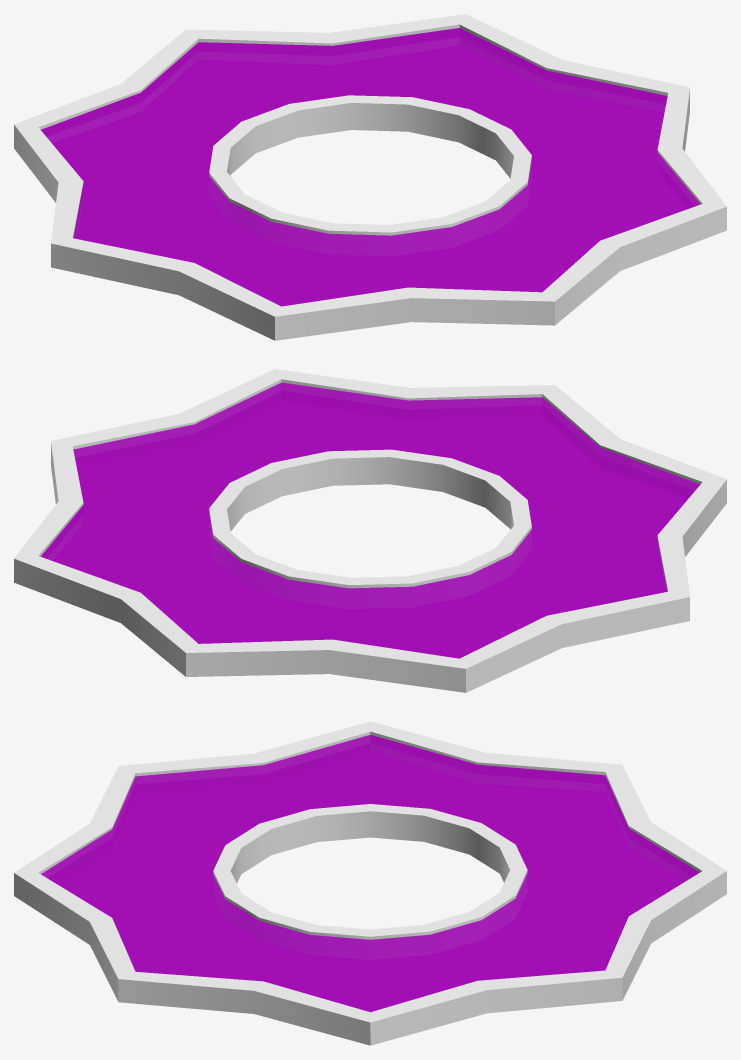
File: pink_ALChanger.fbx
3 renders of one model, top to bottom at view 1: azimuth 30°, elevation 25°; view 2: azimuth 150°, elevation 25°; view 3: azimuth 270°, elevation 25°, orthographic. The views are drawn at different scales.
Parts seen in each view (by area): view 1: s.001, s.003, s.002; view 2: s.001, s.003, s.002; view 3: s.001, s.003, s.002.
Part boxes in pixels (x1,y1,x2,y2): s.001: [41, 28, 700, 306]; s.003: [14, 14, 726, 340]; s.002: [209, 95, 531, 235]; s.001: [41, 382, 700, 658]; s.003: [14, 369, 726, 692]; s.002: [209, 449, 531, 588]; s.001: [41, 735, 699, 1012]; s.003: [14, 721, 726, 1045]; s.002: [213, 804, 527, 939].
Size of the model in its own units: 1298 by 1298 by 54.48.
